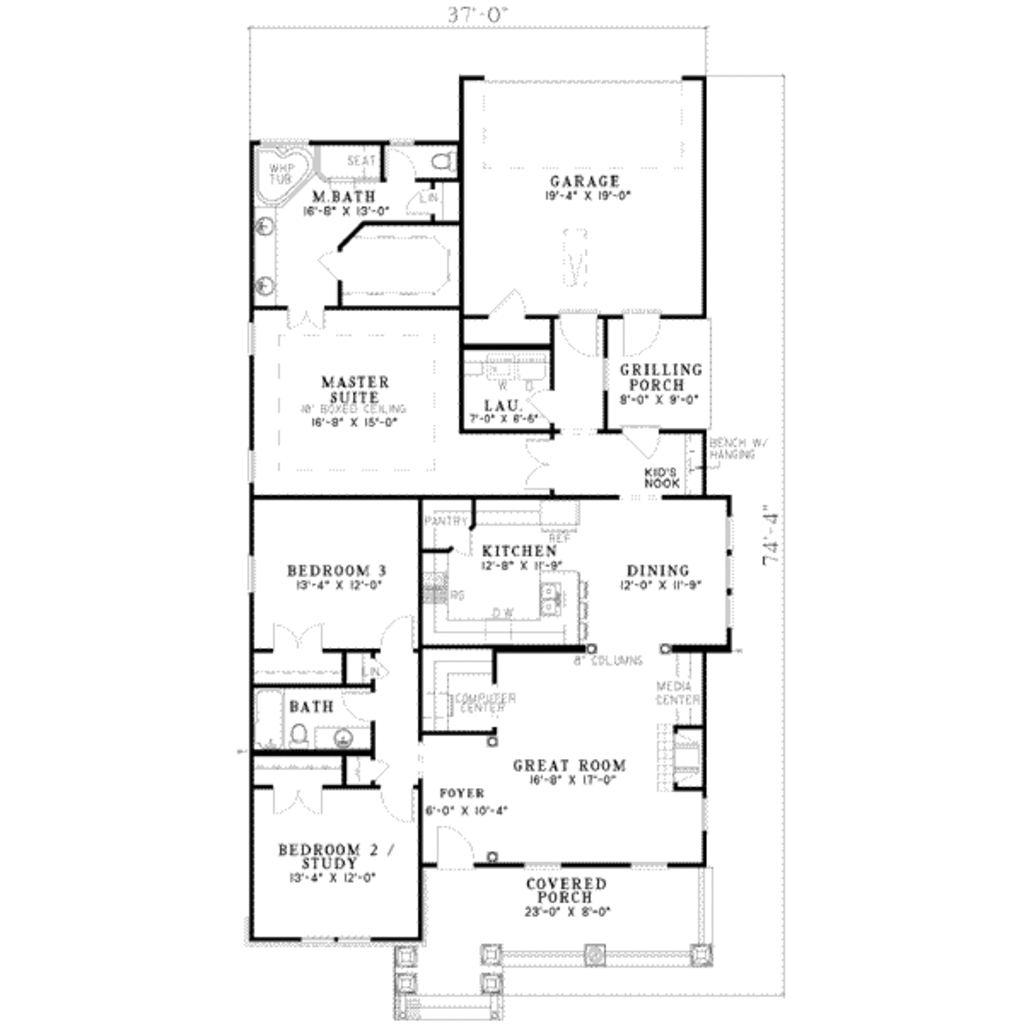door: (615, 298, 672, 359), (552, 301, 606, 364), (268, 618, 341, 660), (522, 431, 564, 497), (490, 287, 546, 327), (435, 822, 475, 870), (269, 785, 335, 814), (284, 300, 338, 335), (344, 688, 384, 733), (624, 418, 667, 458), (382, 610, 421, 654), (381, 144, 423, 182), (315, 242, 347, 291), (407, 183, 443, 223), (529, 381, 563, 423), (381, 791, 421, 826), (365, 756, 394, 788)
kitchen_bar: (533, 571, 592, 647)
large_sink: (429, 140, 463, 176), (291, 721, 307, 751)
small_sink: (247, 202, 289, 305), (315, 730, 374, 753)
tub: (253, 677, 282, 750)
twin_sink: (538, 581, 566, 621)
window: (716, 514, 747, 626), (293, 931, 378, 956), (517, 855, 566, 875), (241, 317, 261, 362), (628, 859, 673, 877), (698, 792, 713, 835), (248, 550, 259, 601), (244, 448, 257, 484)
